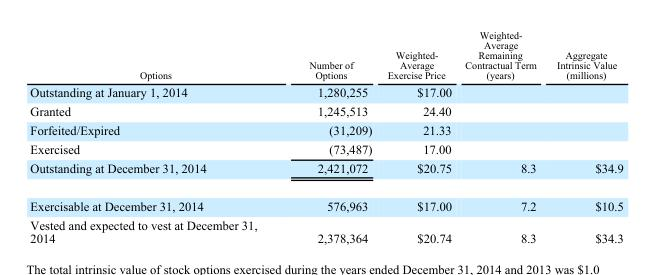table: (29, 28, 622, 244)
table column: (29, 28, 282, 244), (282, 28, 379, 244), (457, 28, 545, 244), (379, 28, 457, 244), (545, 28, 622, 244)
table column header: (29, 28, 622, 82)
table row: (29, 28, 622, 82), (29, 186, 622, 215), (29, 215, 622, 244), (29, 158, 622, 186), (29, 82, 622, 101), (29, 101, 622, 120), (29, 120, 622, 139), (29, 139, 622, 158)
